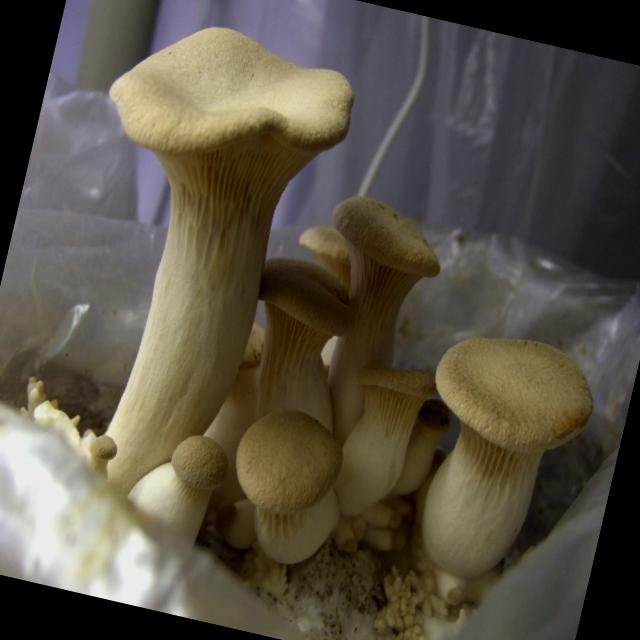Pleurotus eryngii: (28, 6, 362, 512), (272, 186, 477, 523), (202, 249, 392, 561), (395, 323, 602, 588)
